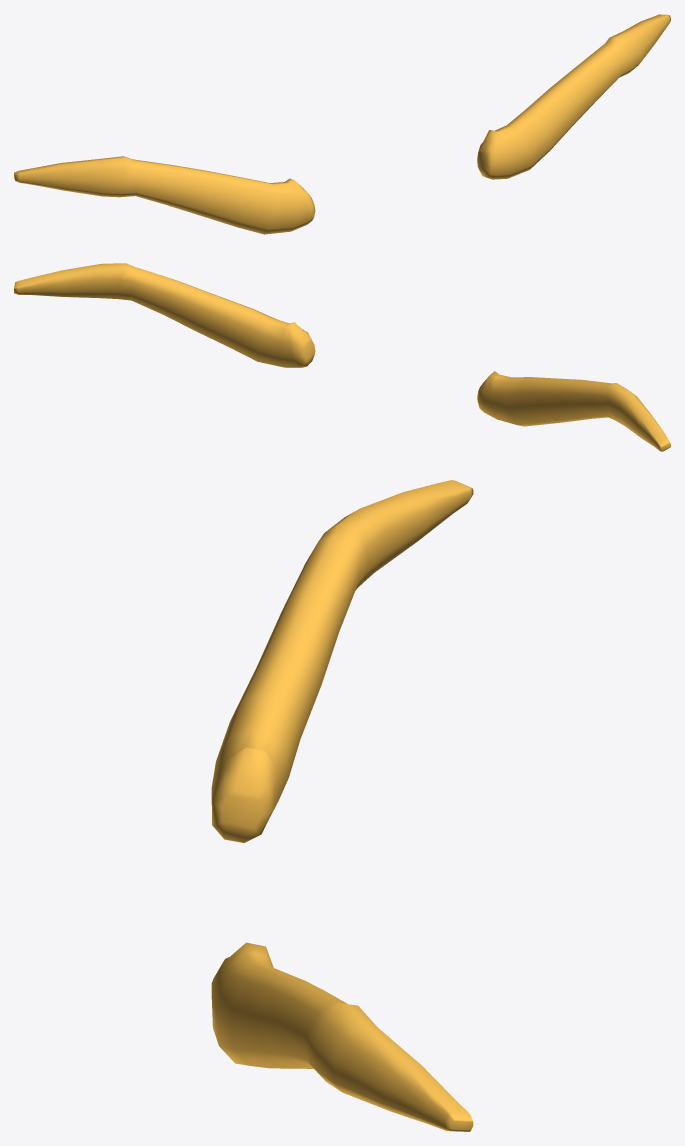
File: Eyebrows_16_05.fbx
3 views of the same model, one above another, from view 1: azimuth 30°, elevation 25°; view 2: azimuth 150°, elevation 25°; view 3: azimuth 270°, elevation 25° (orthographic). The views are drawn at different scales.
Parts seen in each view (by area): view 1: Eyebrows_16_05; view 2: Eyebrows_16_05; view 3: Eyebrows_16_05.
Boxes of the visible parts, x1=… form: Eyebrows_16_05: x1=14, y1=14, x2=670, y2=234; Eyebrows_16_05: x1=14, y1=263, x2=670, y2=451; Eyebrows_16_05: x1=211, y1=480, x2=473, y2=1131.
Bounding box in the file's own units: 18.79 × 2.42 × 3.25.
